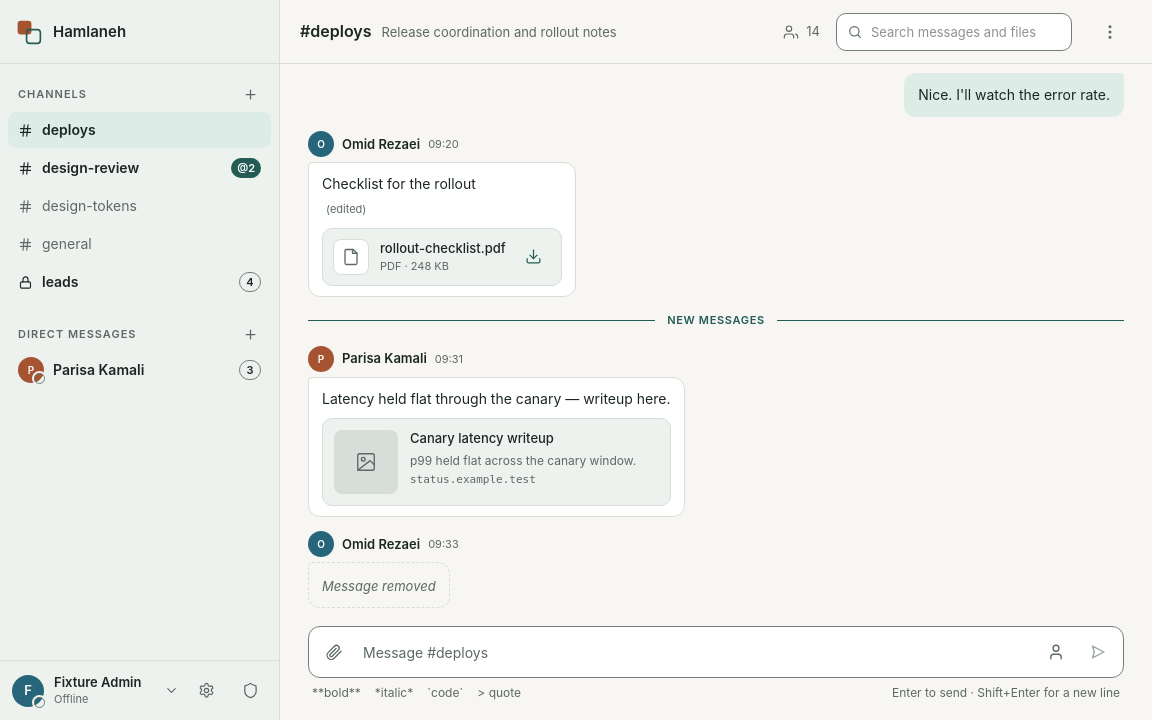
Test: create channel › creates a channel and opens it, without promising public means browsable
(page scrolled)
Step 1. Click the button named "Create a channel" → (250, 94), box [239, 83, 261, 105]
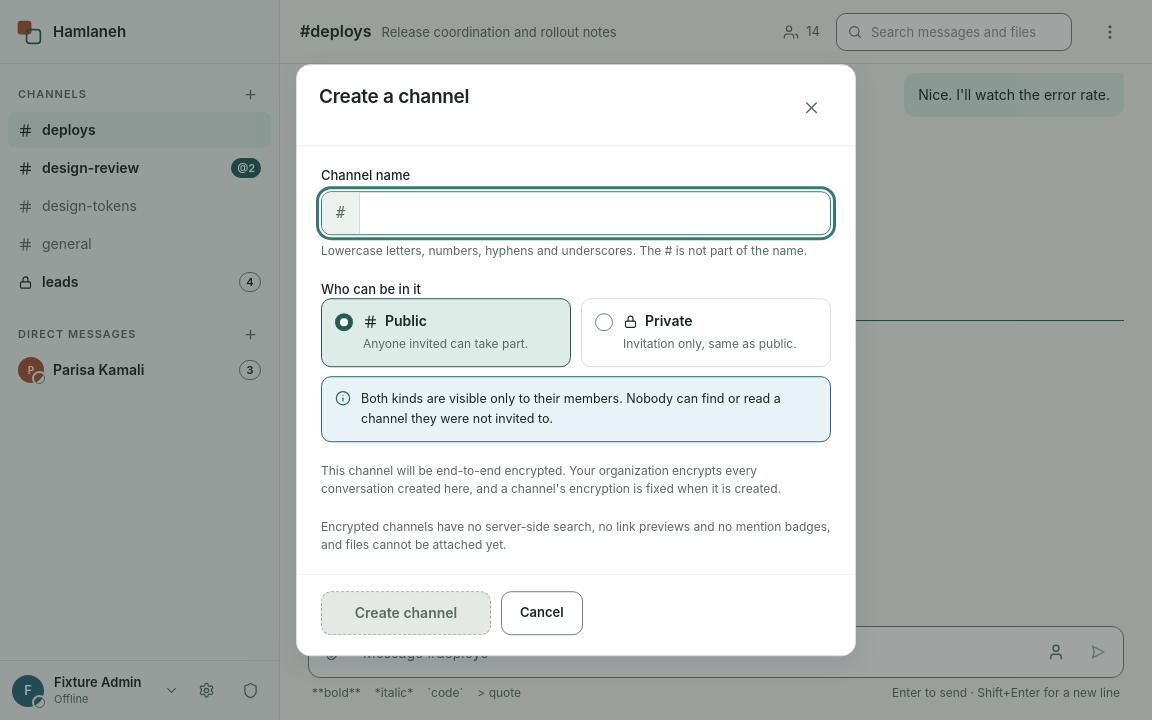
Expected: the text "Both kinds are visible only to their members. Nobody can find or read a channel they were not invited to." is shown, [361, 391, 781, 426]
Expected: the text "This channel will be end-to-end encrypted. Your organization encrypts every conversation created here, and a channel's e" is shown, [321, 463, 781, 496]
Step 2. Type "rollouts" into the field labelled "Channel name" → (595, 213), box [360, 192, 830, 234]
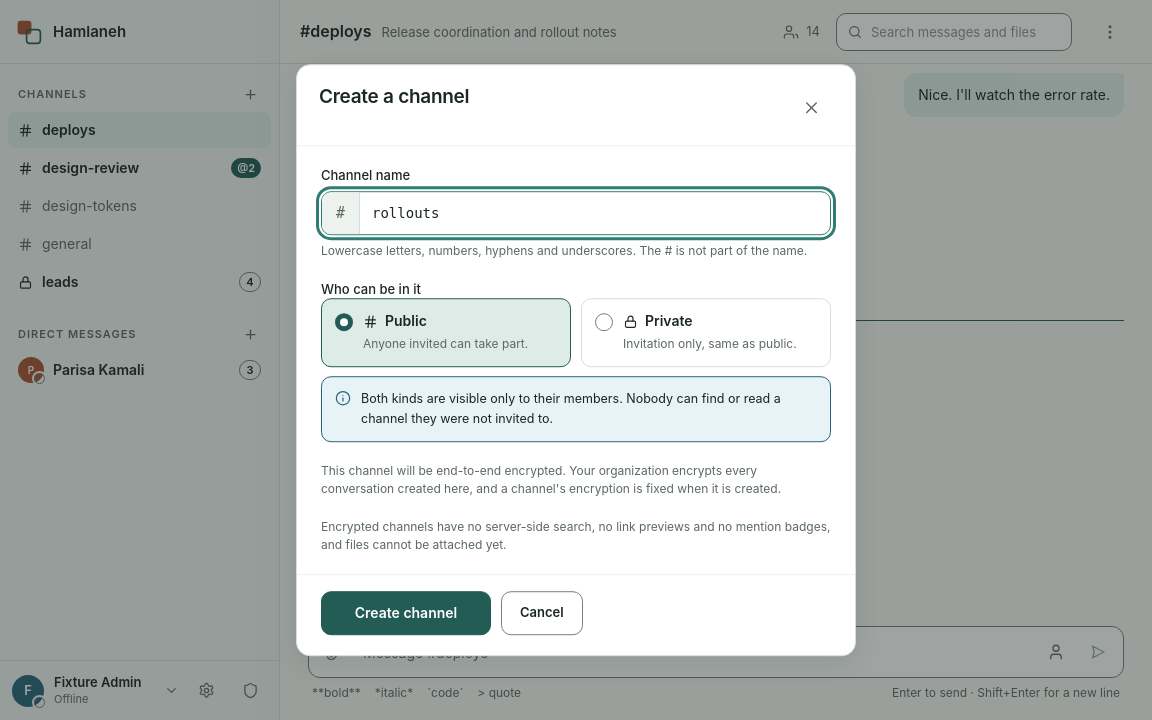
Step 3. Click the button "Create channel" → (406, 613), box [321, 591, 491, 635]
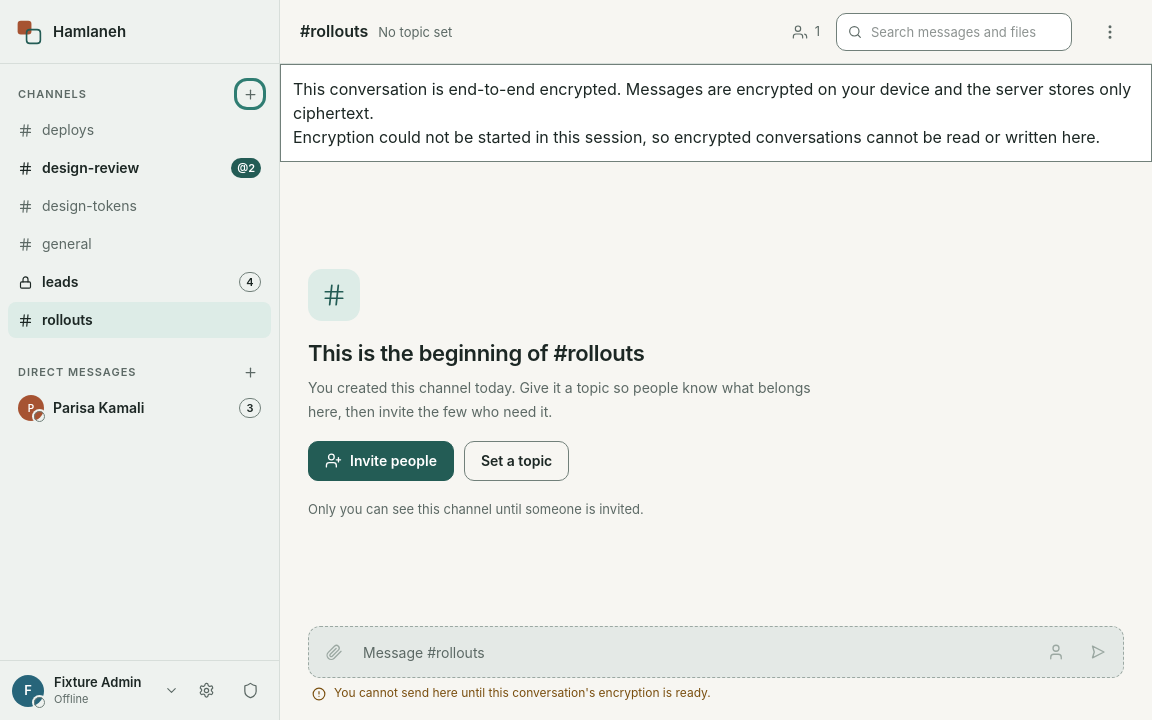
Expected: the text "Only you can see this channel until someone is invited." is shown, [308, 499, 644, 519]
Expected: the heading "Create a channel" is gone
